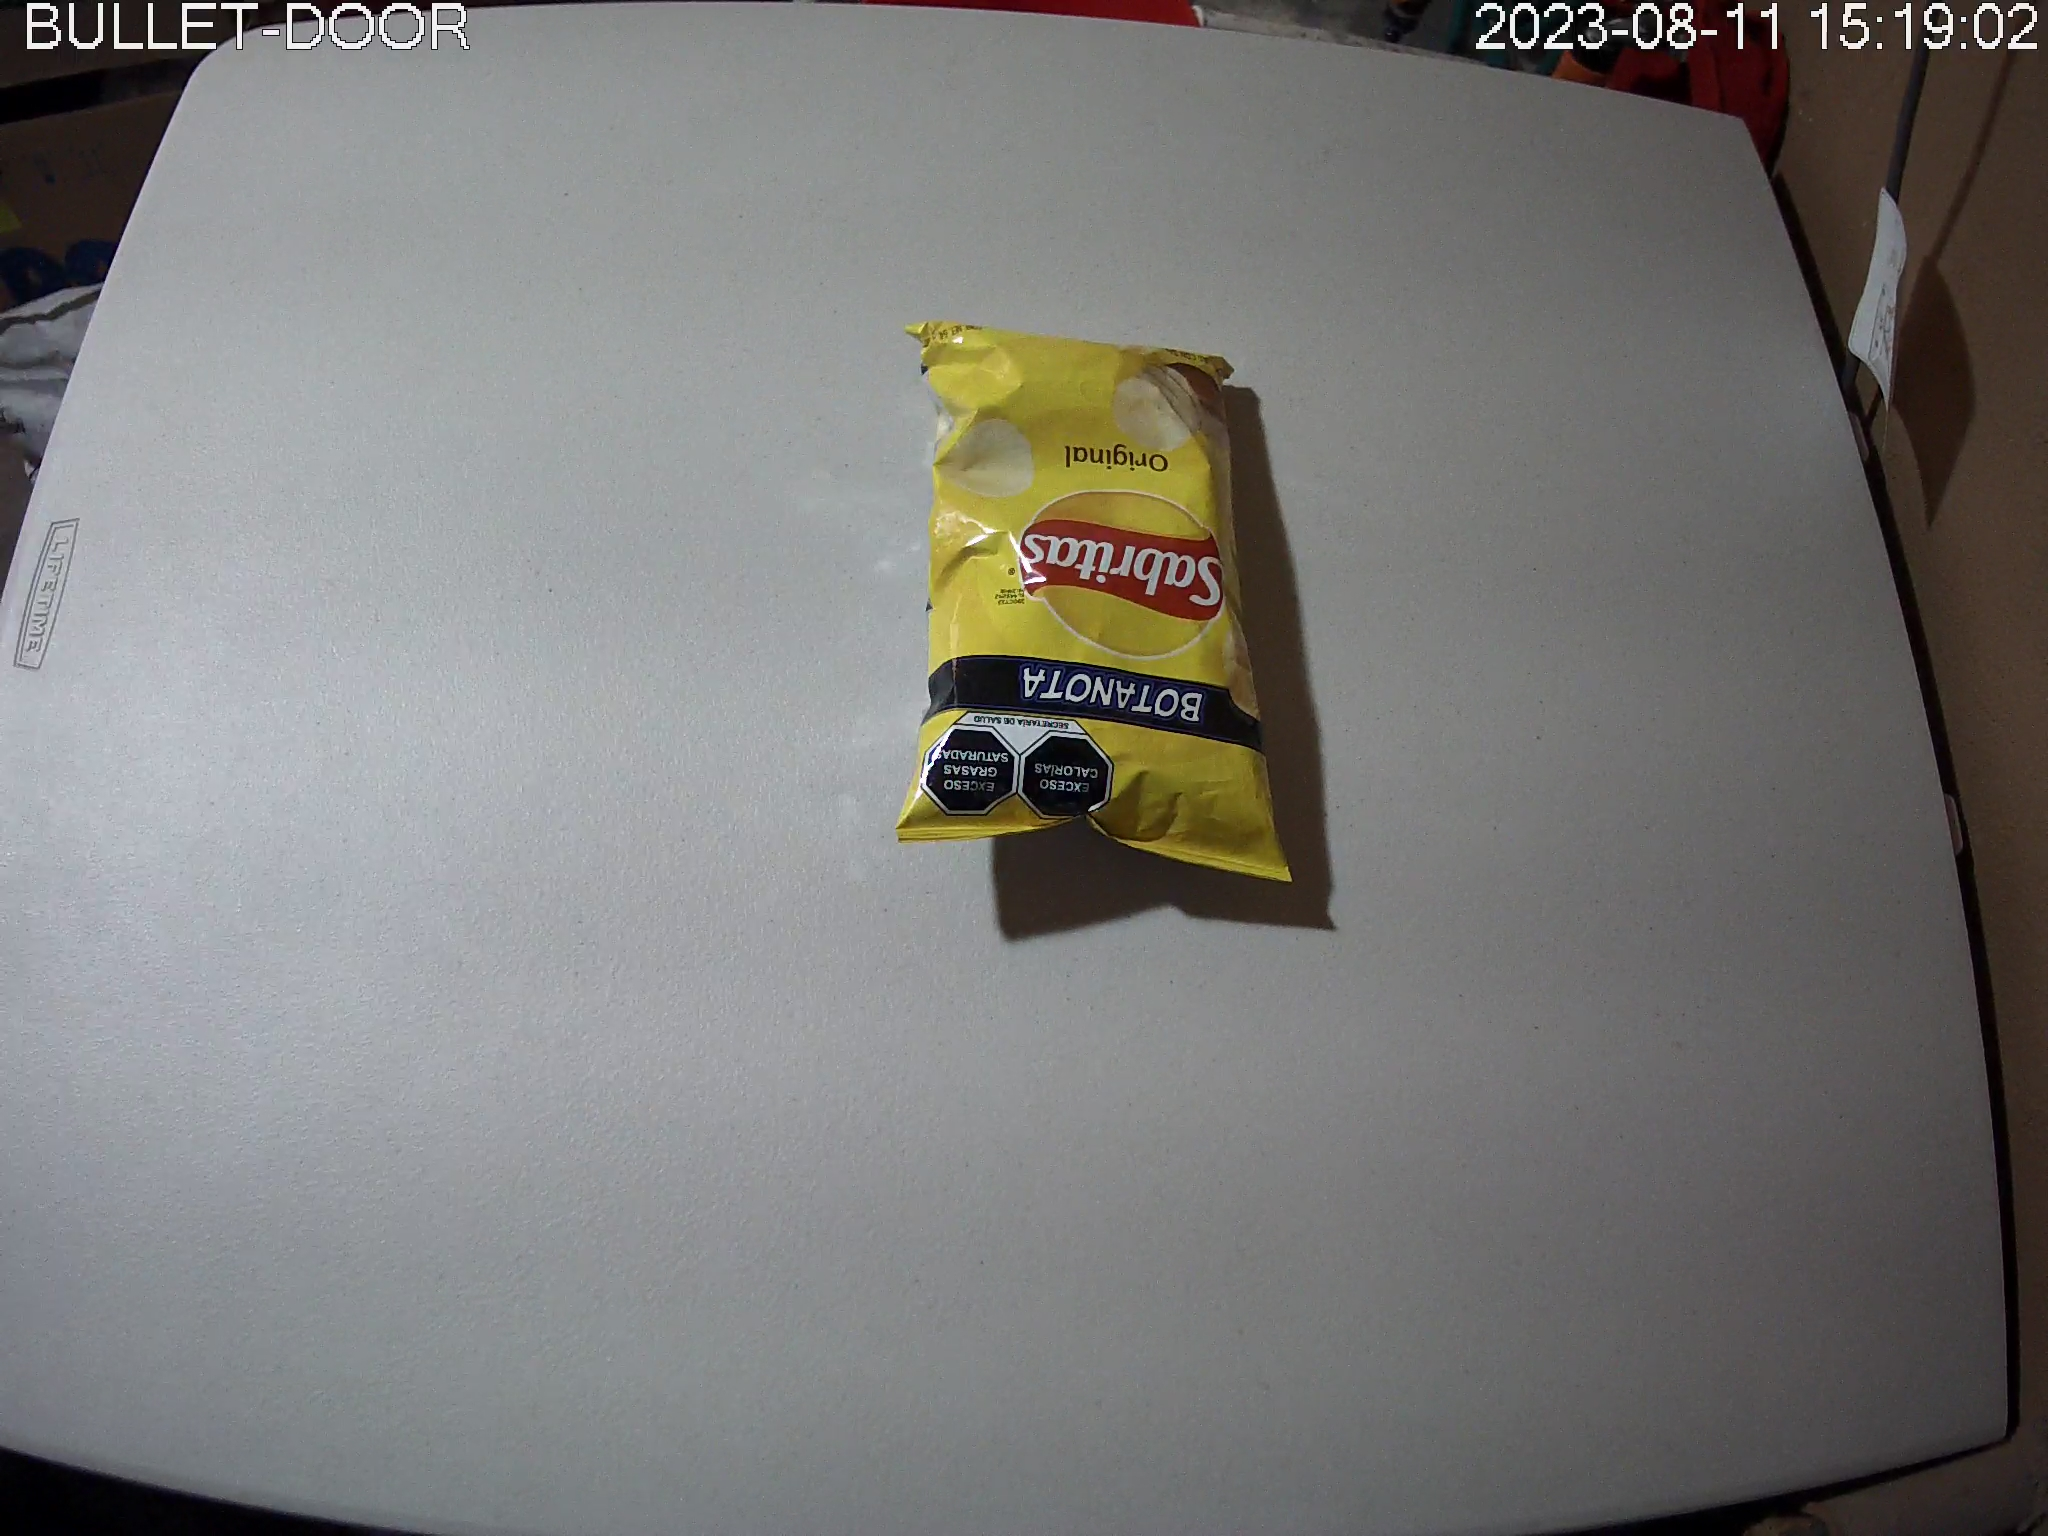Sabritas_64_F: (893, 319, 1300, 891)
